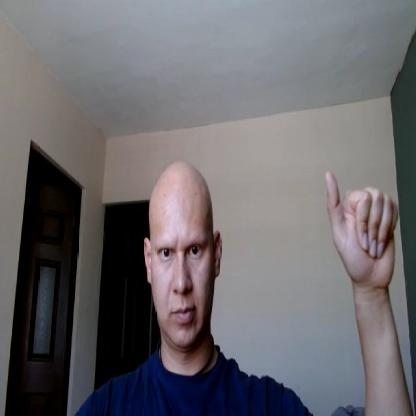A: (325, 168, 399, 290)
